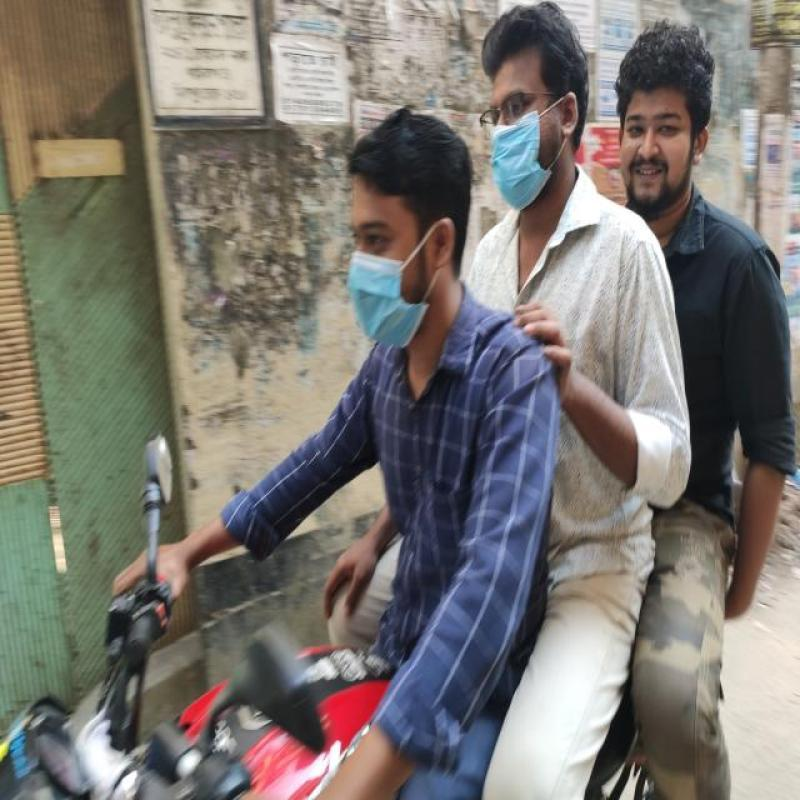nohelmet: (341, 104, 477, 334), (462, 19, 573, 223), (610, 28, 718, 216)
